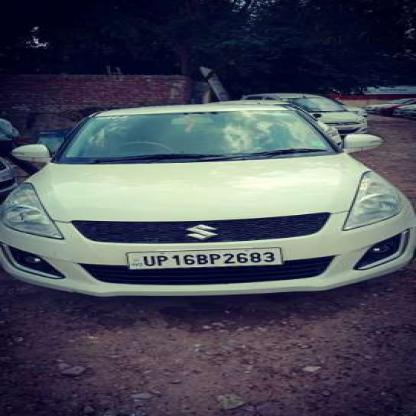license: (121, 243, 286, 272)
